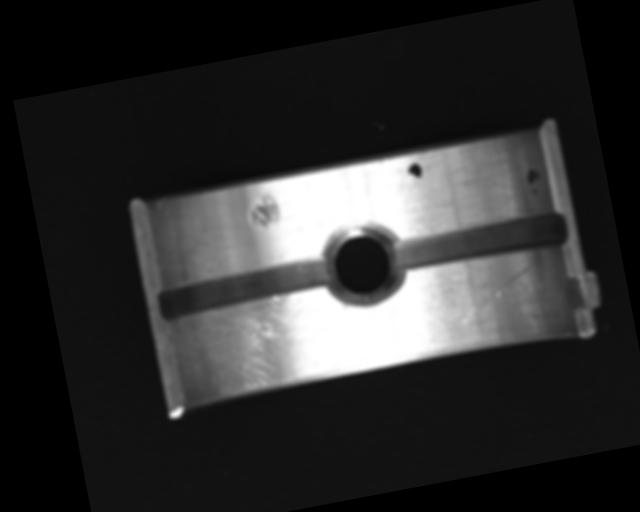blot: (524, 165, 545, 199), (406, 161, 424, 185)
bruise: (245, 188, 282, 231)
gap: (389, 204, 571, 276), (155, 253, 340, 323)
hole: (317, 214, 412, 314)
nick: (451, 264, 540, 325)
scratch: (176, 285, 347, 404)
